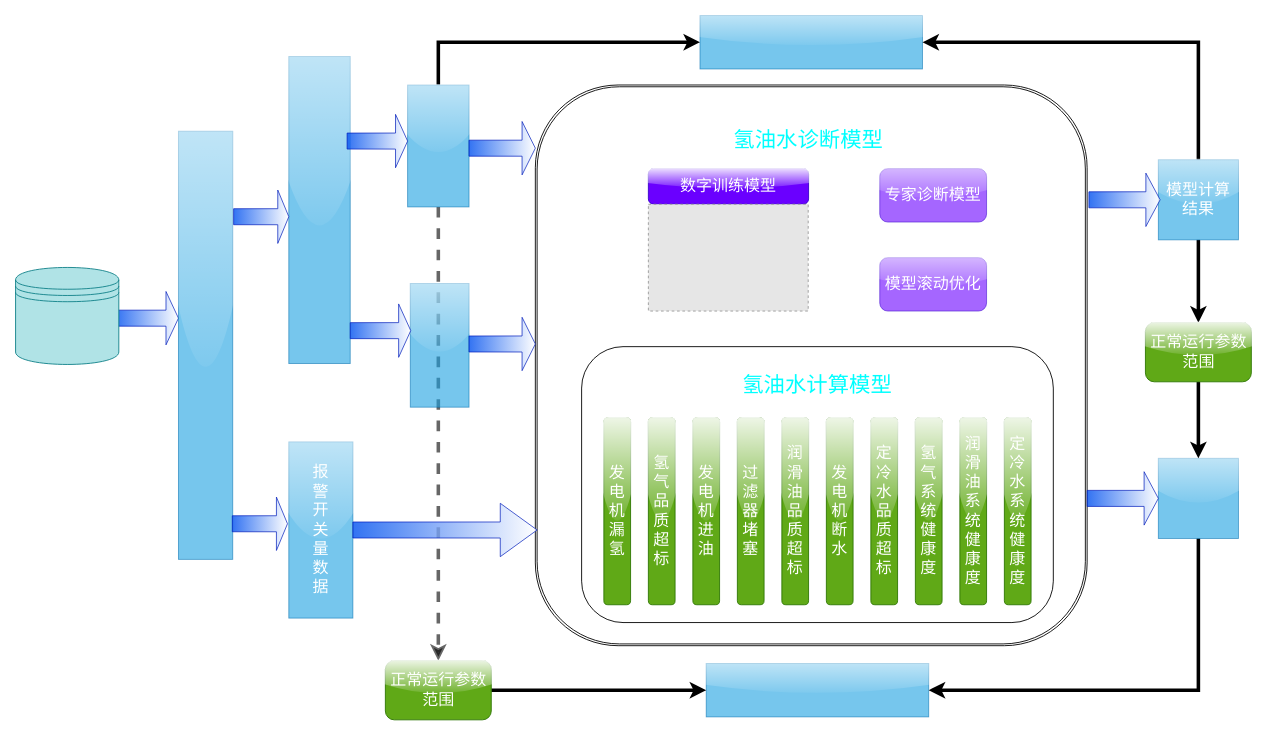
The diagram is 1267 pixels wide and 736 high, and some of its shapes have lost their labels. Grey dashed boxes stand in for pictures. Each missing label, with the box of its shape:
传感器及状态数据: (288, 56, 350, 364)
模型诊断结果: (1157, 457, 1238, 538)
氢油水运行相关数据: (178, 130, 233, 559)
统一数据 云平台: (15, 267, 119, 364)
计算结果验证: (699, 15, 922, 69)
训练数据: (409, 283, 469, 407)
诊断结果验证: (705, 663, 929, 717)
验证数据: (407, 84, 469, 207)
